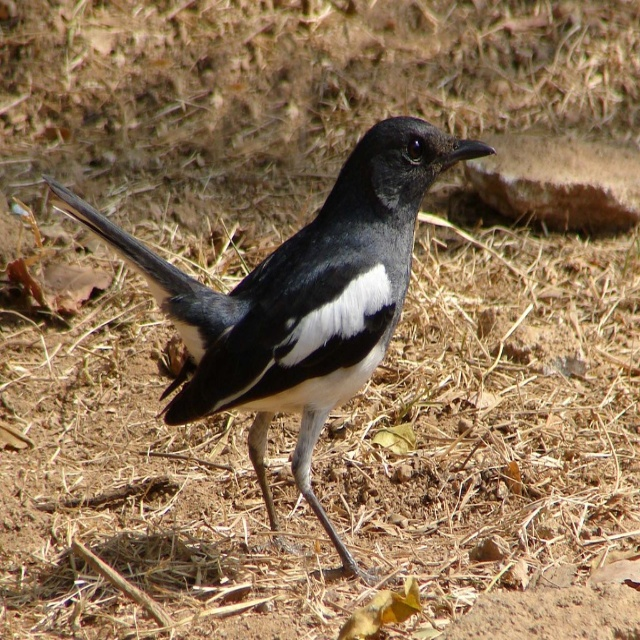Magpie: (41, 114, 496, 588)
